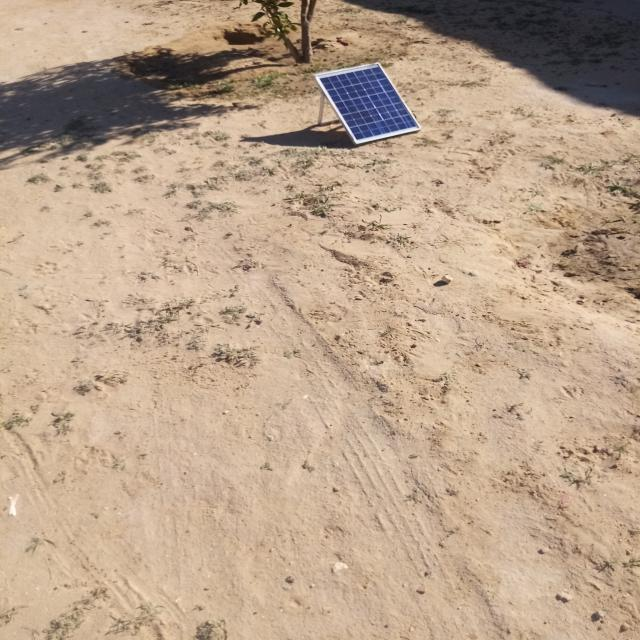no faulty: (314, 63, 421, 145)
